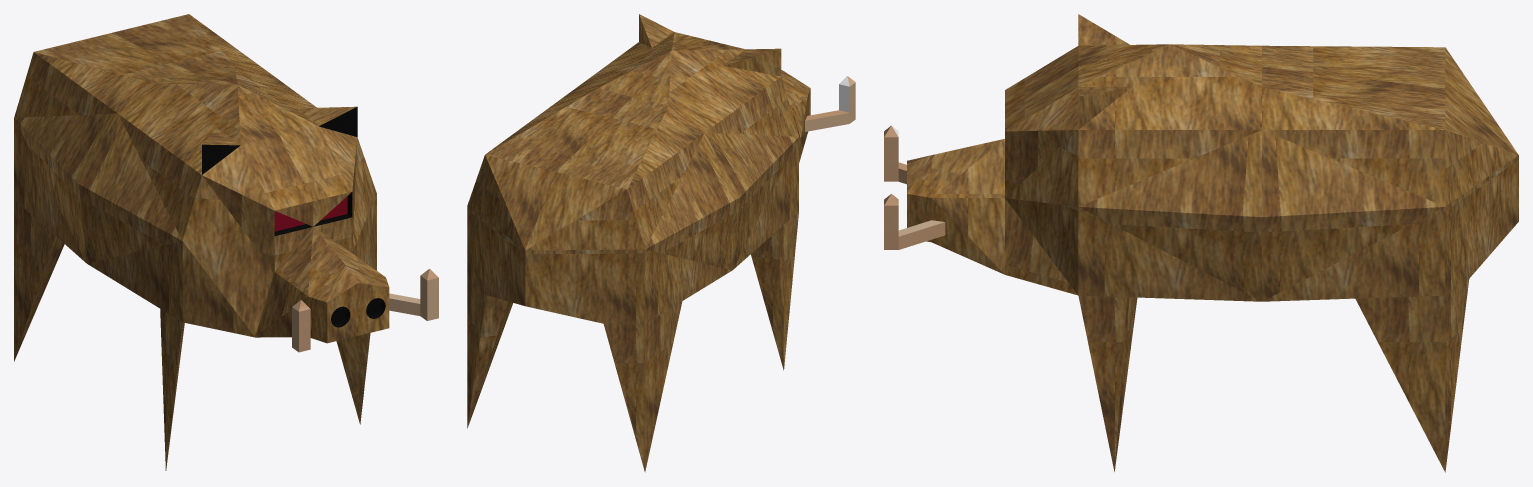
Rendered from merjasec.obj.
The picture shows the model from 3 angles, left to right: view 1: azimuth 30°, elevation 25°; view 2: azimuth 150°, elevation 25°; view 3: azimuth 270°, elevation 25°; orthographic projection. The views are drawn at different scales.
Parts seen in each view (by area): view 1: merjasec_Main-Material1, merjasec_Main-Material4, merjasec_Main-Material2, merjasec_Main-Material3; view 2: merjasec_Main-Material1, merjasec_Main-Material2; view 3: merjasec_Main-Material1, merjasec_Main-Material2.
Part boxes in pixels (left/top/right/bottom): merjasec_Main-Material1: left=14, top=14, right=389, bottom=470; merjasec_Main-Material4: left=202, top=107, right=385, bottom=327; merjasec_Main-Material2: left=292, top=268, right=438, bottom=352; merjasec_Main-Material3: left=274, top=196, right=347, bottom=231; merjasec_Main-Material1: left=467, top=14, right=810, bottom=472; merjasec_Main-Material2: left=805, top=76, right=855, bottom=131; merjasec_Main-Material1: left=907, top=14, right=1518, bottom=472; merjasec_Main-Material2: left=884, top=125, right=945, bottom=249.
Size of the model in its own units: 0.6 by 0.85 by 1.3.
5 materials, 4 textured.
